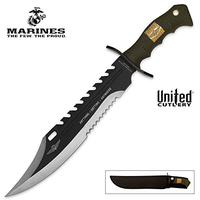knife: (5, 5, 181, 198)
